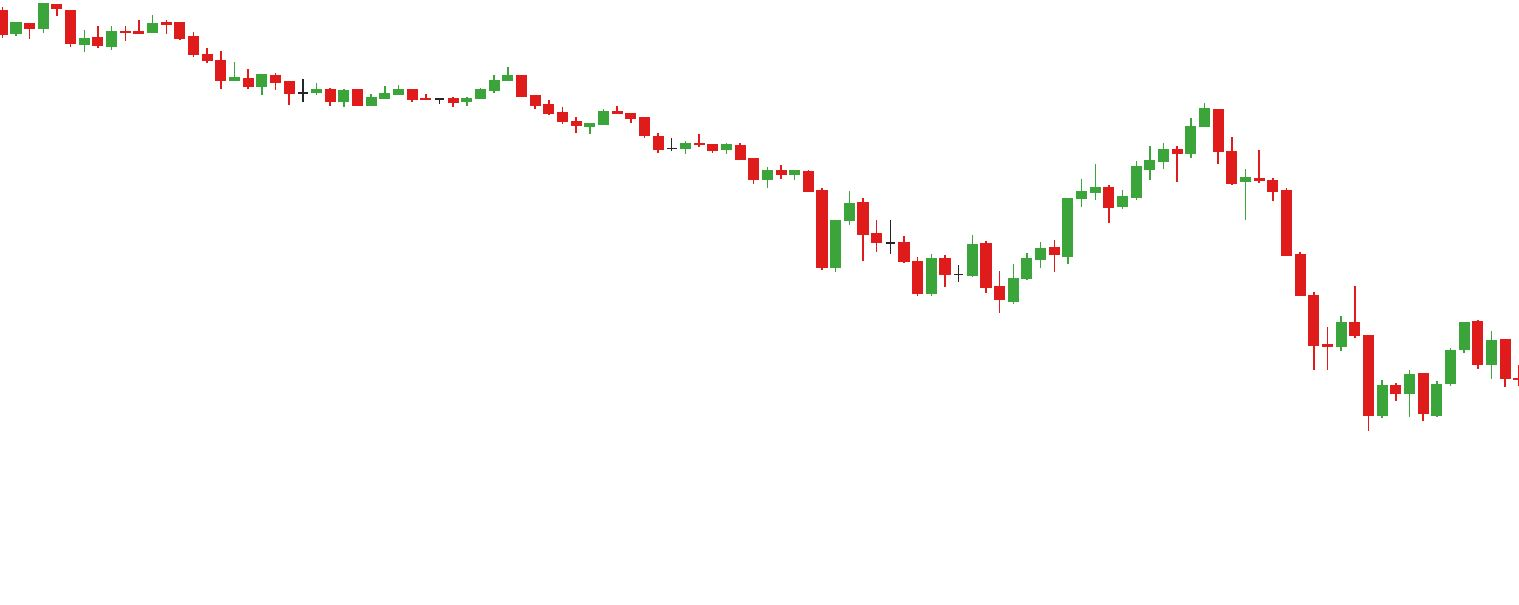buy: (913, 253, 1021, 316)
